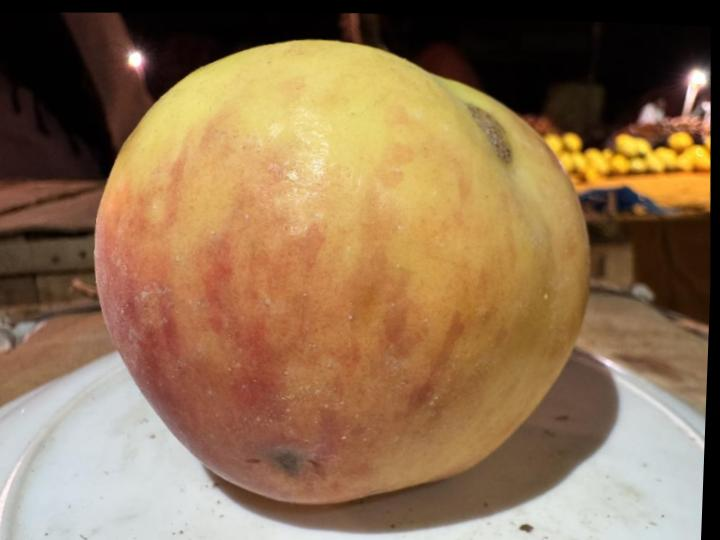apple: (95, 41, 588, 503)
bruise_discoloration: (467, 103, 512, 163), (273, 450, 302, 474)
